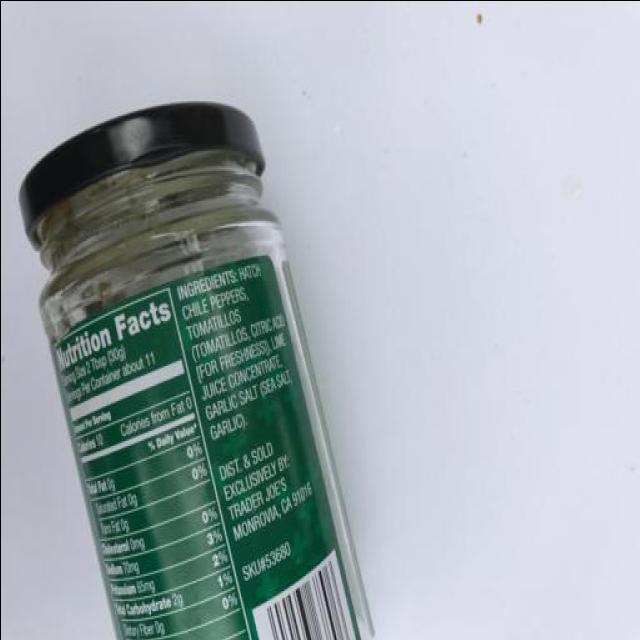glass: (5, 74, 390, 640)
